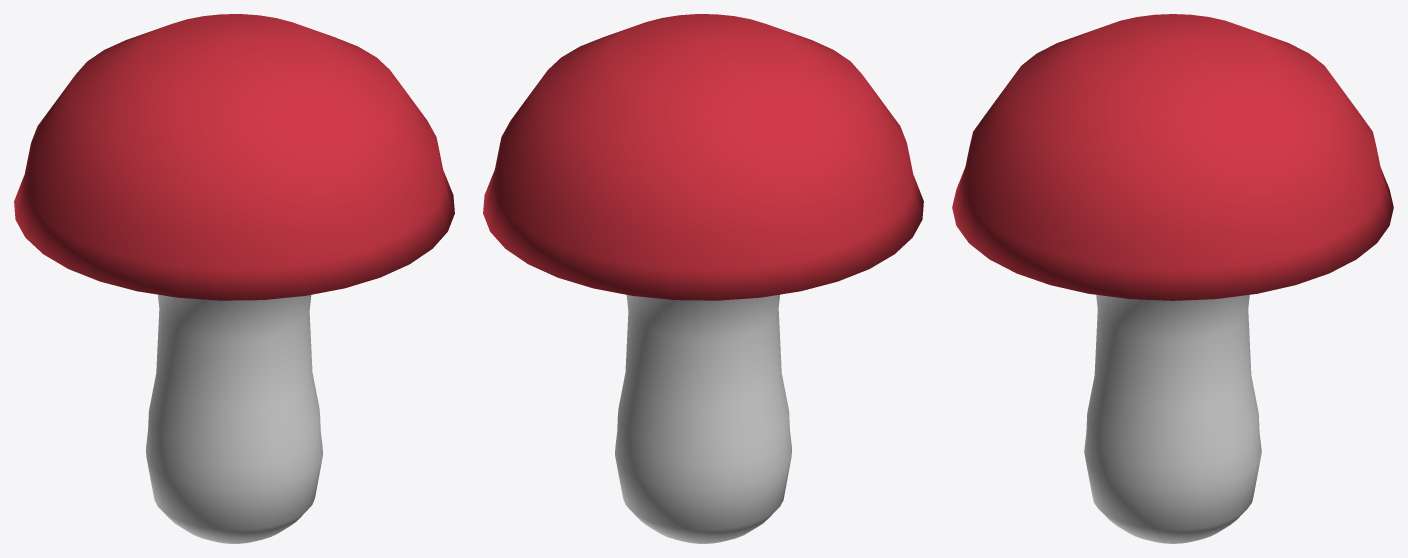
Rendered from theSickener.glb.
3 views of the same model, side by side, from view 1: azimuth 30°, elevation 25°; view 2: azimuth 150°, elevation 25°; view 3: azimuth 270°, elevation 25° (orthographic).
Parts seen in each view (by area): view 1: theSickener; view 2: theSickener; view 3: theSickener.
Boxes of the visible parts, x1=… form: theSickener: x1=14, y1=14, x2=454, y2=543; theSickener: x1=483, y1=14, x2=923, y2=543; theSickener: x1=952, y1=14, x2=1393, y2=543.
Bounding box in the file's own units: 0.8944 × 1.11 × 0.8944.
